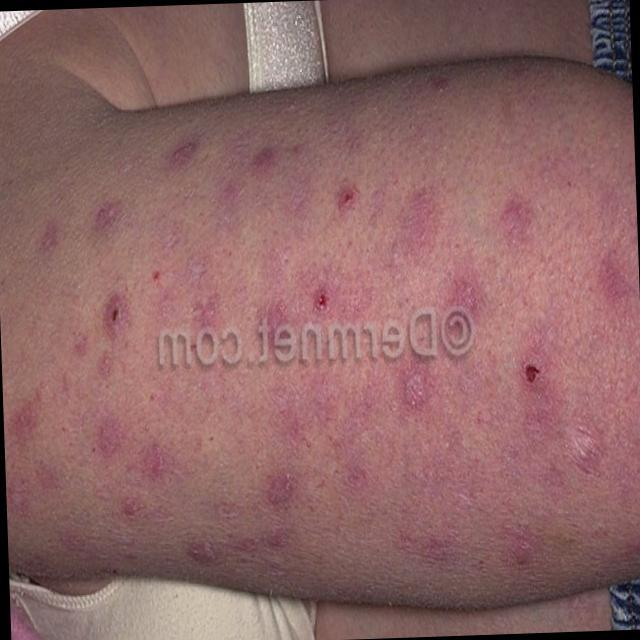Eczema: (0, 118, 628, 590)
